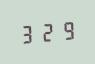nine: (57, 19, 75, 41)
three: (18, 22, 36, 44)
two: (38, 20, 56, 43)
